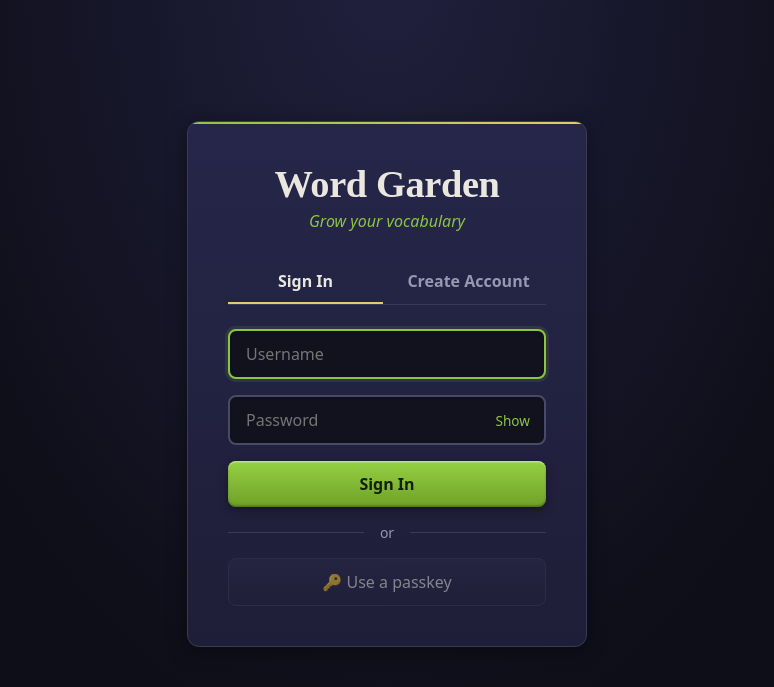
Test: Loading and focus › shows a creating-account label while registering
The width and height of the screenshot is (774, 687).
Click the tab "Create Account": [468, 282] box [391, 260, 546, 304]
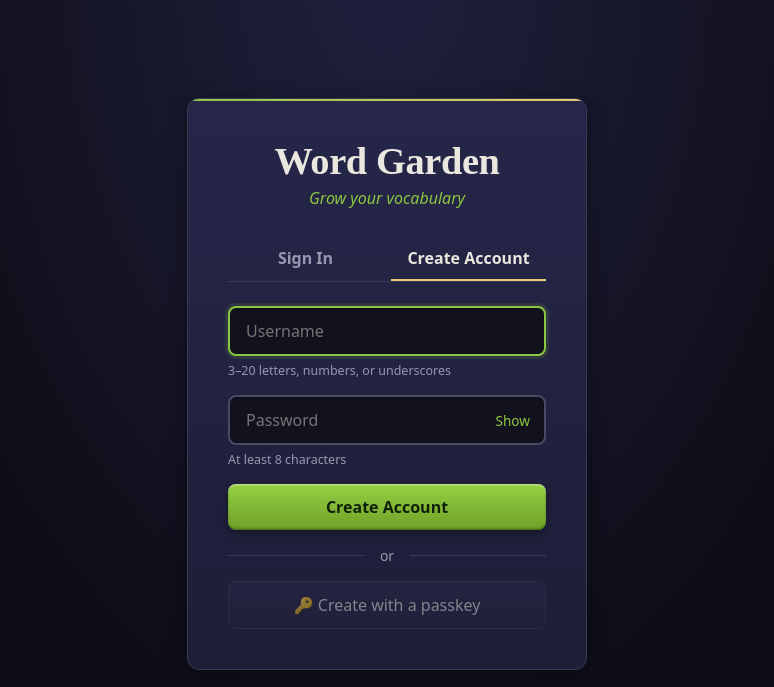
In the field with placeholder "Username": [387, 331] box [228, 306, 546, 356], type "alice"
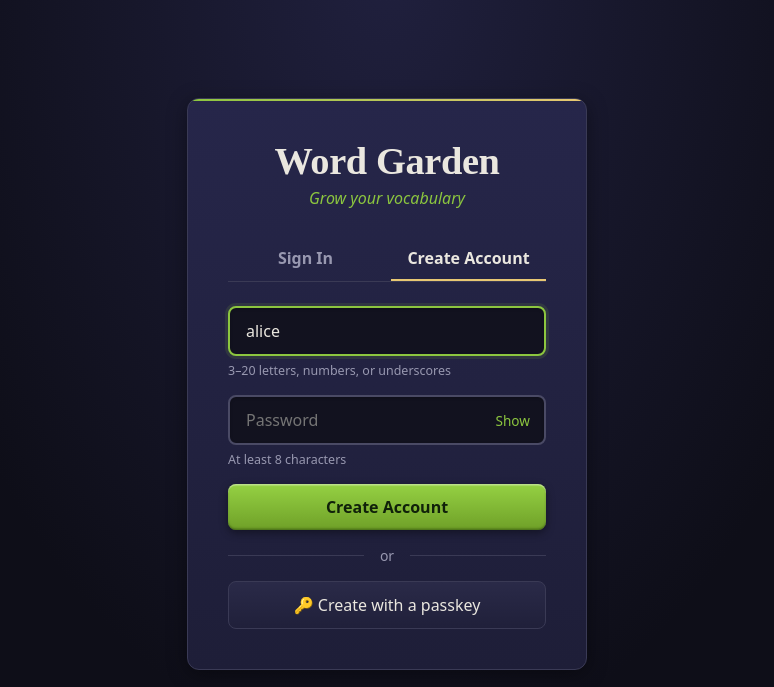
In the password field with placeholder "Password": [387, 420] box [228, 395, 546, 445], type "password123"
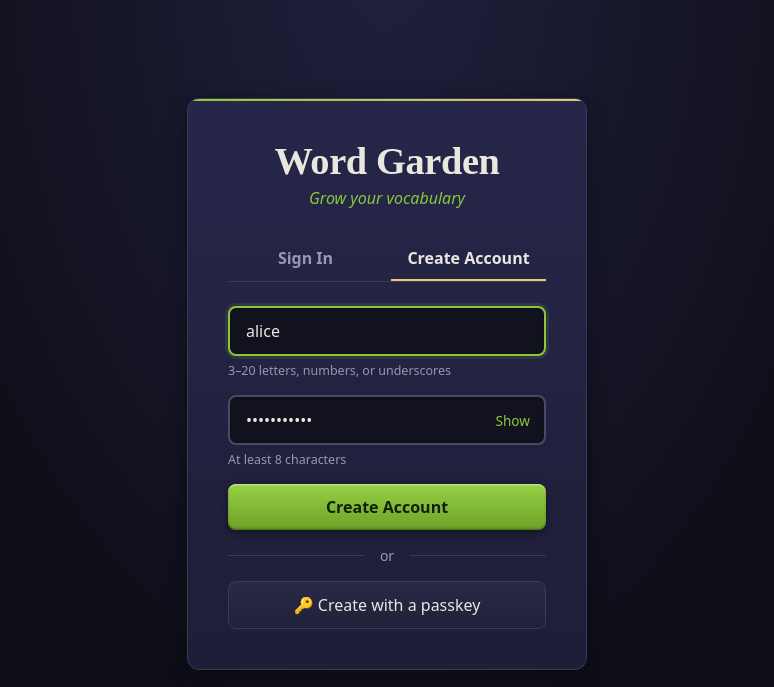
Submit the form, box [228, 306, 546, 629]
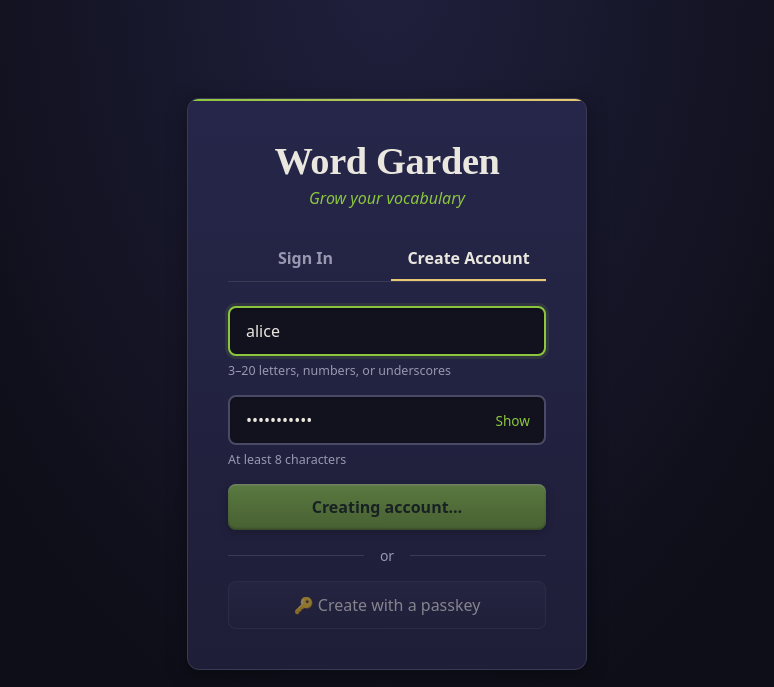
expect the button "Creating account…" is shown: met, box [228, 484, 546, 530]
